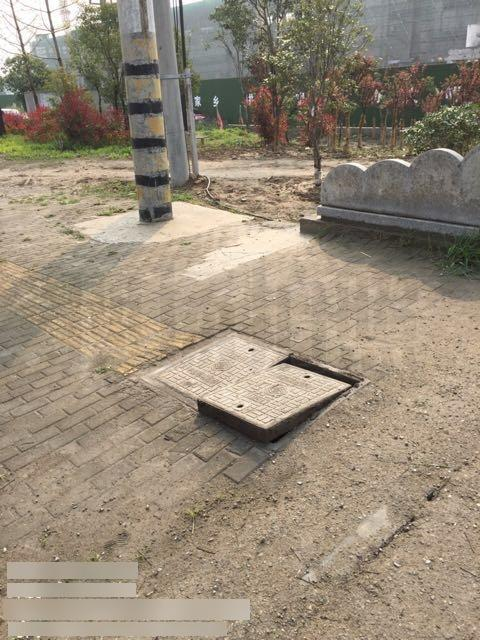wellcover: (124, 313, 384, 459)
